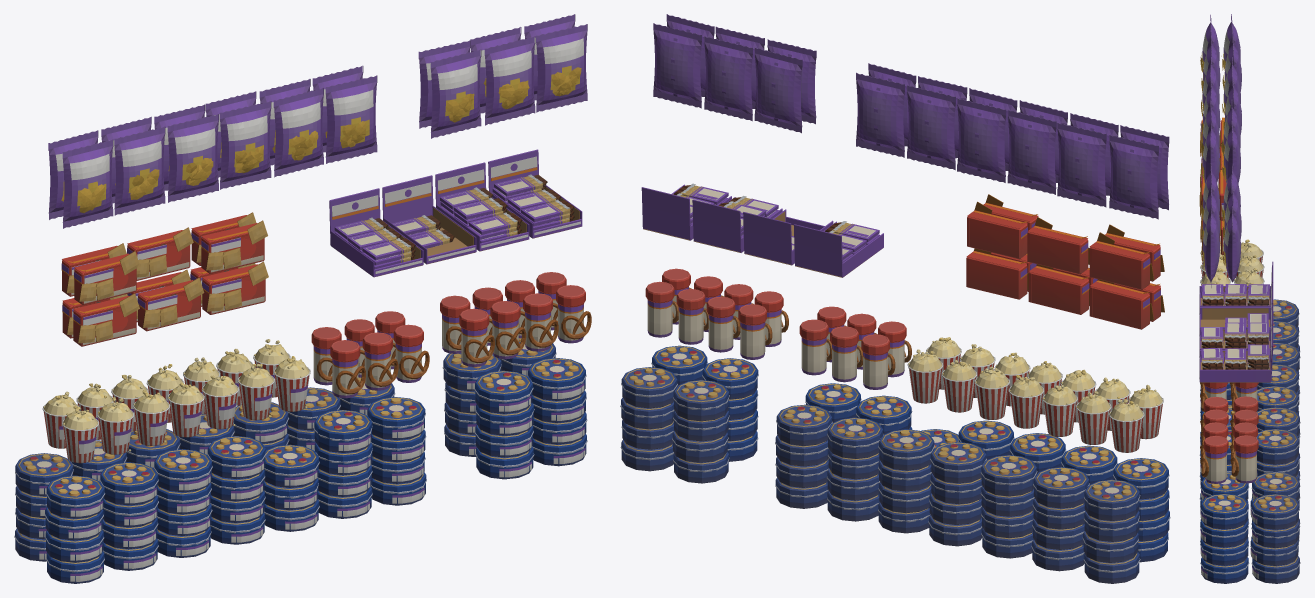
File: gs-fill-gondola-snacks.glb
3 renders of one model, left to right at view 1: azimuth 30°, elevation 25°; view 2: azimuth 150°, elevation 25°; view 3: azimuth 270°, elevation 25°, orthographic. The views are drawn at different scales.
Parts seen in each view (by area): view 1: gs_fill_gondola_snacks; view 2: gs_fill_gondola_snacks; view 3: gs_fill_gondola_snacks.
Part boxes in pixels (x1,y1,x2,y2): gs_fill_gondola_snacks: [14, 14, 591, 583]; gs_fill_gondola_snacks: [620, 14, 1170, 583]; gs_fill_gondola_snacks: [1199, 14, 1300, 583].
Size of the model in its own units: 1.9 by 1.46 by 0.3757.
